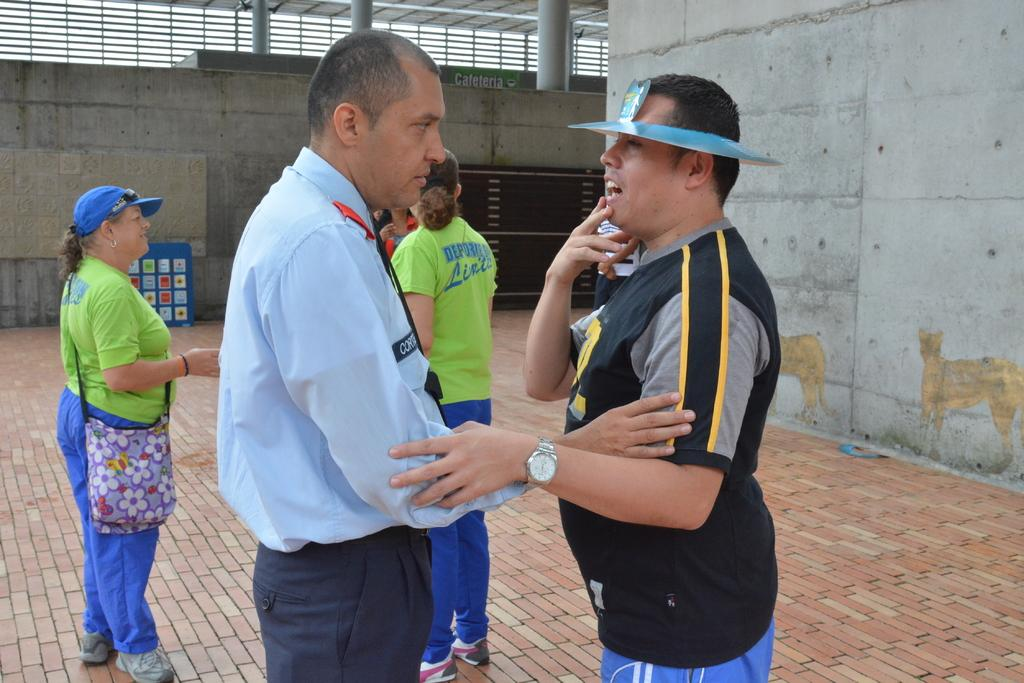Hat: (68, 185, 158, 236)
